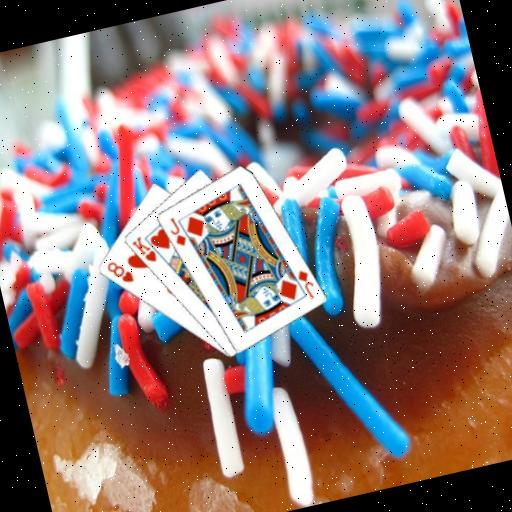8H: (103, 255, 136, 289)
JD: (293, 265, 319, 303), (164, 213, 189, 250)
KH: (127, 231, 159, 268)
